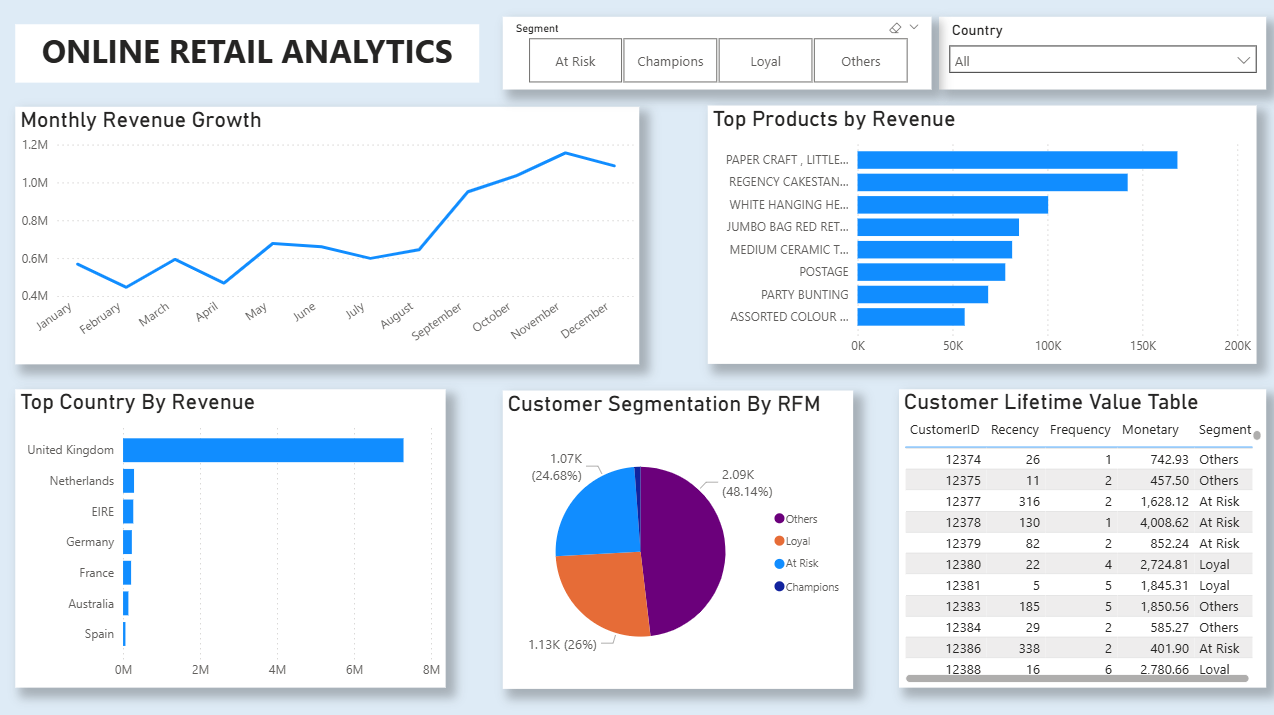

The page's visual inventory and layout, read from the dashboard file:
{"tool":"powerbi","page":{"name":"Page 1","canvas":[1280,720],"ordinal":0},"visuals":[{"type":"lineChart","title":"Monthly Revenue Growth","fields":{"Category":["online_retail_cleaned.InvoiceDate.Variation.Date Hierarchy.Year","online_retail_cleaned.InvoiceDate.Variation.Date Hierarchy.Quarter","online_retail_cleaned.InvoiceDate.Variation.Date Hierarchy.Month","online_retail_cleaned.InvoiceDate.Variation.Date Hierarchy.Day"],"Y":["Sum(online_retail_cleaned.OrderValue)"]},"box":[16.2,108.8,623.8,257.5],"z":0},{"type":"barChart","title":"Top Country By Revenue","fields":{"Category":["online_retail_cleaned.Country"],"Y":["Sum(online_retail_cleaned.OrderValue)"]},"box":[16.2,391.2,430,298.8],"z":1},{"type":"pieChart","title":"Customer Segmentation By RFM","fields":{"Category":["customer_rfm.Segment"],"Y":["Count(customer_rfm.CustomerID)"]},"box":[503.8,392.5,350,298.8],"z":2},{"type":"tableEx","title":"Customer Lifetime Value Table","fields":{"Values":["customer_rfm.CustomerID","customer_rfm.Recency","customer_rfm.Frequency","customer_rfm.Monetary","customer_rfm.Segment"]},"box":[900,391.2,367.5,298.8],"z":3},{"type":"slicer","fields":{"Values":["online_retail_cleaned.Country"]},"box":[940,18.8,327.5,72.5],"z":4},{"type":"slicer","fields":{"Values":["customer_rfm.Segment"]},"box":[503.8,18.8,428.8,72.5],"z":5},{"type":"barChart","title":"Top Products by Revenue","fields":{"Category":["online_retail_cleaned.Description"],"Y":["Sum(online_retail_cleaned.OrderValue)"]},"box":[708.8,107.5,548.8,258.8],"z":6},{"type":"textbox","box":[16.2,26.2,463.8,58.8],"z":7}]}

Visuals, with their boxes in screenshot pixels (x1, y1, x2, y2), scaled from the page's 1280x720 canvas onto the 1274x715 screenshot:
"Monthly Revenue Growth" lineChart: {"left": 16, "top": 108, "right": 637, "bottom": 364}
"Top Country By Revenue" barChart: {"left": 16, "top": 388, "right": 444, "bottom": 685}
"Customer Segmentation By RFM" pieChart: {"left": 501, "top": 390, "right": 850, "bottom": 686}
"Customer Lifetime Value Table" tableEx: {"left": 896, "top": 388, "right": 1262, "bottom": 685}
slicer - online_retail_cleaned.Country: {"left": 936, "top": 19, "right": 1262, "bottom": 91}
slicer - customer_rfm.Segment: {"left": 501, "top": 19, "right": 928, "bottom": 91}
"Top Products by Revenue" barChart: {"left": 705, "top": 107, "right": 1252, "bottom": 364}
textbox: {"left": 16, "top": 26, "right": 478, "bottom": 84}
